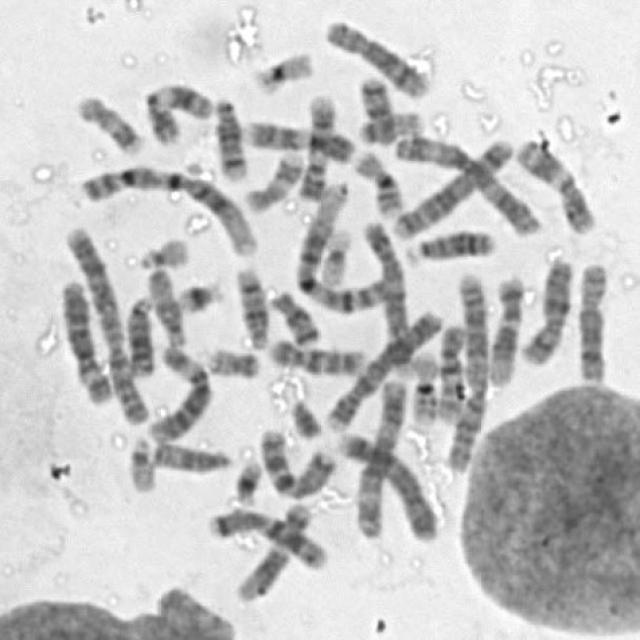A1: (72, 158, 260, 258), (288, 177, 394, 317)
A2: (58, 219, 154, 426), (440, 266, 494, 475)
A3: (388, 127, 544, 238), (348, 375, 409, 541)
B4: (321, 303, 445, 432), (330, 423, 440, 542)
B5: (388, 131, 520, 241), (356, 212, 418, 380)
C10: (264, 333, 368, 377), (432, 318, 469, 425)
C11: (510, 131, 600, 237), (138, 75, 216, 146)
C12: (230, 495, 316, 605), (481, 269, 526, 387)
C6: (54, 273, 117, 406), (142, 338, 216, 444)
C7: (200, 500, 330, 572), (254, 422, 338, 499)
C8: (320, 13, 436, 98), (572, 254, 613, 387)
C9: (238, 114, 358, 165), (295, 88, 340, 202)
D13: (399, 222, 499, 266), (120, 288, 157, 379)
D14: (208, 90, 252, 182), (230, 261, 272, 351)
D15: (142, 263, 191, 349), (147, 434, 235, 475)
E16: (351, 145, 409, 219), (405, 345, 441, 429)
E17: (70, 88, 146, 157), (238, 145, 307, 215)
E18: (265, 284, 323, 348), (352, 70, 397, 146)
F19: (248, 45, 318, 96), (315, 219, 355, 288)
F20: (352, 104, 426, 146), (202, 341, 262, 380)
G21: (171, 274, 227, 316), (228, 453, 265, 506)
G22: (122, 429, 159, 494), (133, 232, 191, 270)
X: (516, 250, 577, 367)
Y: (284, 391, 324, 440)
